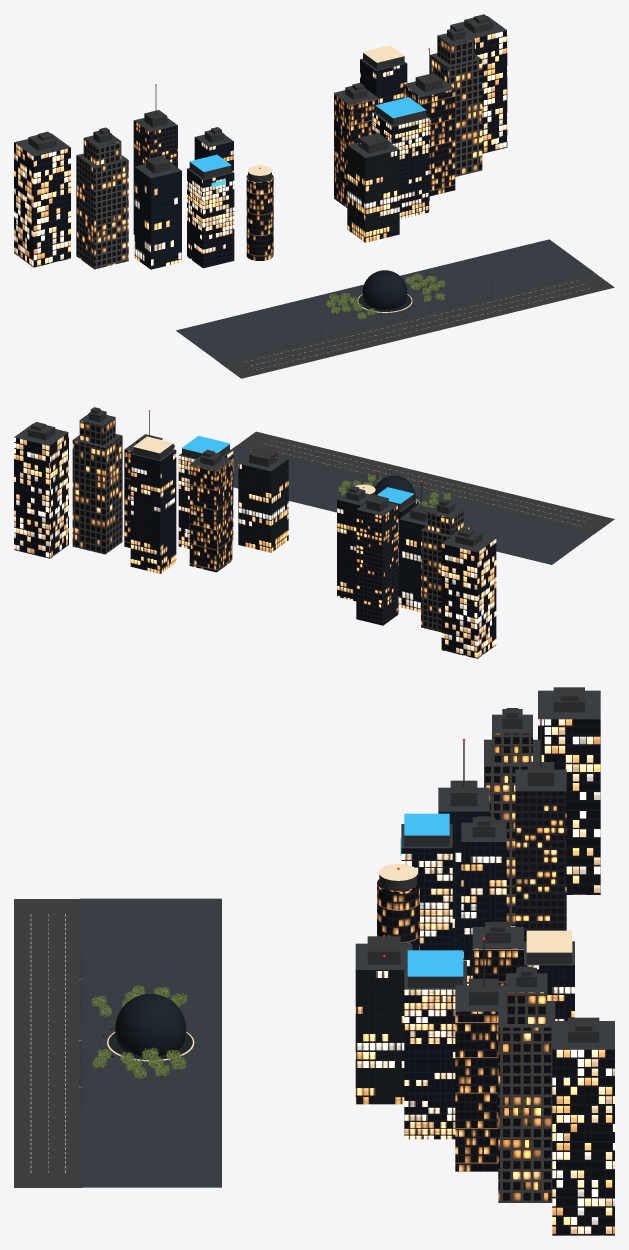
Rendered from dome_pavilion_web.glb.
3 views of the same model, one above another, from view 1: azimuth 30°, elevation 25°; view 2: azimuth 150°, elevation 25°; view 3: azimuth 270°, elevation 25° (orthographic). The views are drawn at different scales.
Visible parts, largest first — view 1: Env_Plaza_Granite, Env_Wet_Highway_Asphalt, Tower_L_Far2, Tower_L_Far1, Tower_R_DarkOffice, Tower_L_Spire, Tower_L_Cyan, Tower_R_Far1, Tower_R_BlueHQ, Tower_R_Far2, Tower_R_Spire, Tower_R_Fill1 (+8 smaller); view 2: Env_Plaza_Granite, Env_Wet_Highway_Asphalt, Tower_R_Far2, Tower_L_Far2, Tower_R_Far1, Tower_R_Fill2, Tower_L_Fill2, Tower_R_Fill1, Tower_R_DarkOffice, Tower_L_Far1, Tower_L_Fill1, Tower_L_Spire (+9 smaller); view 3: Env_Plaza_Granite, Env_Wet_Highway_Asphalt, Tower_R_Far2, Tower_R_Far1, Tower_L_Far2, Tower_R_BlueHQ, Tower_L_Fill2, Tower_R_Spire, Tower_R_DarkOffice, Tower_L_Fill1, Tower_L_Cyan, LED_DOME_SCREEN (+12 smaller).
Part boxes in pixels (left/top/right/bottom): Env_Plaza_Granite: left=176, top=239, right=593, bottom=362; Env_Wet_Highway_Asphalt: left=220, top=272, right=614, bottom=378; Tower_L_Far2: left=14, top=133, right=70, bottom=267; Tower_L_Far1: left=76, top=153, right=128, bottom=269; Tower_R_DarkOffice: left=347, top=142, right=399, bottom=242; Tower_L_Spire: left=134, top=163, right=181, bottom=269; Tower_L_Cyan: left=187, top=168, right=234, bottom=268; Tower_R_Far1: left=430, top=53, right=482, bottom=176; Tower_R_BlueHQ: left=372, top=111, right=429, bottom=219; Tower_R_Far2: left=450, top=16, right=507, bottom=153; Tower_R_Spire: left=403, top=80, right=455, bottom=196; Tower_R_Fill1: left=334, top=88, right=378, bottom=207; Env_Plaza_Granite: left=231, top=446, right=594, bottom=564; Env_Wet_Highway_Asphalt: left=237, top=431, right=614, bottom=533; Tower_R_Far2: left=14, top=423, right=68, bottom=558; Tower_L_Far2: left=441, top=530, right=496, bottom=658; Tower_R_Far1: left=72, top=434, right=122, bottom=554; Tower_R_Fill2: left=130, top=449, right=176, bottom=573; Tower_L_Fill2: left=356, top=502, right=398, bottom=625; Tower_R_Fill1: left=189, top=454, right=232, bottom=572; Tower_R_DarkOffice: left=238, top=456, right=288, bottom=552; Tower_L_Far1: left=421, top=524, right=470, bottom=632; Tower_L_Fill1: left=337, top=493, right=373, bottom=601; Tower_L_Spire: left=399, top=511, right=427, bottom=611; Env_Plaza_Granite: left=80, top=898, right=221, bottom=1187; Env_Wet_Highway_Asphalt: left=14, top=899, right=81, bottom=1187; Tower_R_Far2: left=552, top=1021, right=614, bottom=1235; Tower_R_Far1: left=498, top=1001, right=555, bottom=1202; Tower_L_Far2: left=538, top=690, right=600, bottom=894; Tower_R_BlueHQ: left=404, top=960, right=466, bottom=1139; Tower_L_Fill2: left=515, top=769, right=566, bottom=941; Tower_R_Spire: left=455, top=985, right=506, bottom=1171; Tower_R_DarkOffice: left=355, top=943, right=412, bottom=1104; Tower_L_Fill1: left=461, top=822, right=506, bottom=985; Tower_L_Cyan: left=401, top=824, right=452, bottom=950; LED_DOME_SCREEN: left=115, top=994, right=186, bottom=1055.
Bounding box in the file's own units: 307 × 93.85 × 211.
28 materials, 11 textured.
